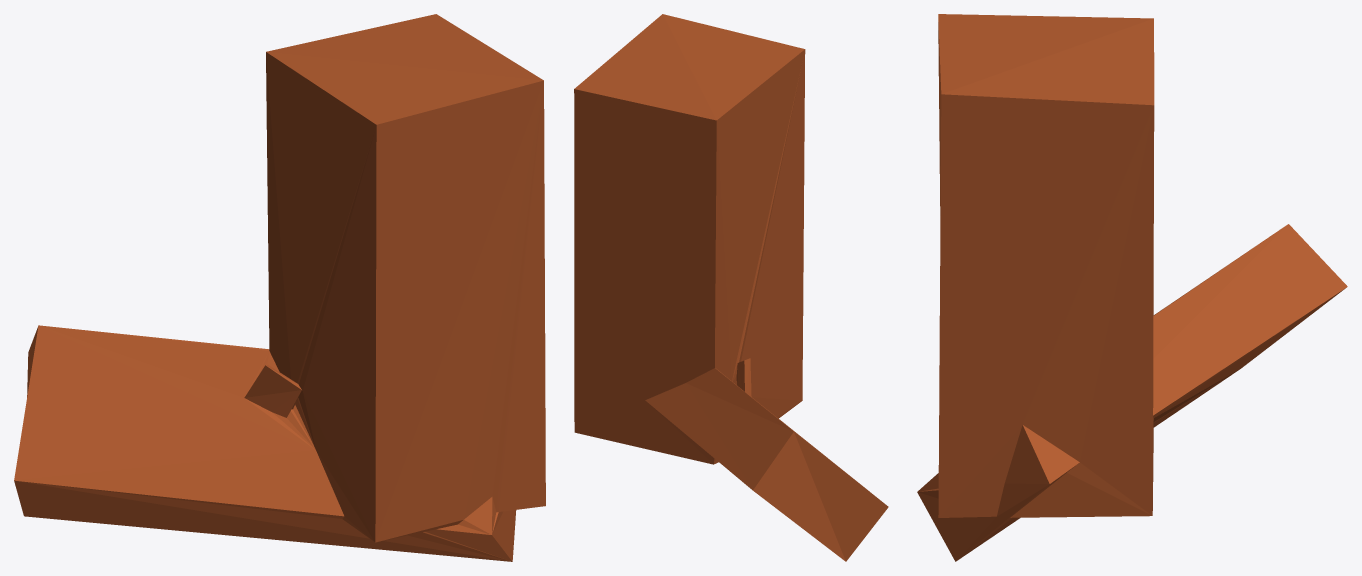
3 views of the same model, side by side, from view 1: azimuth 30°, elevation 25°; view 2: azimuth 150°, elevation 25°; view 3: azimuth 270°, elevation 25° (orthographic). The views are drawn at different scales.
Parts seen in each view (by area): view 1: 504_Cube.2036; view 2: 504_Cube.2036; view 3: 504_Cube.2036.
Part boxes in pixels (x1=…): 504_Cube.2036: x1=14, y1=14, x2=545, y2=561; 504_Cube.2036: x1=574, y1=14, x2=888, y2=561; 504_Cube.2036: x1=917, y1=14, x2=1347, y2=561.
Size of the model in its own units: 12.89 by 13.65 by 11.11.
